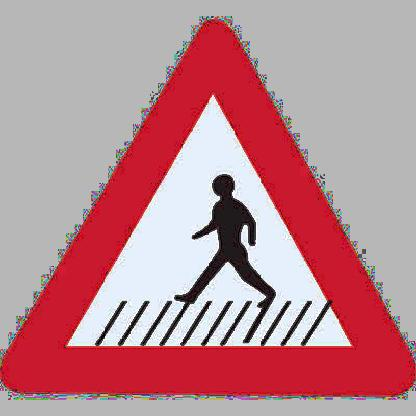Pedestrian Crossing: (9, 20, 390, 381)
